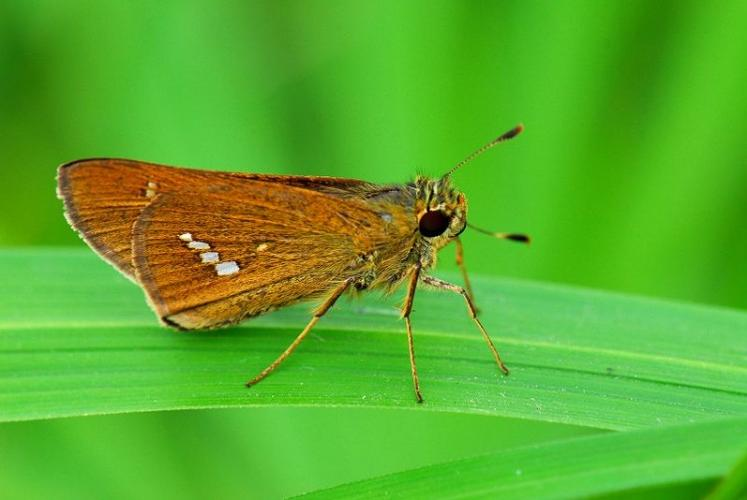Hesperiidae: (48, 115, 538, 407)
